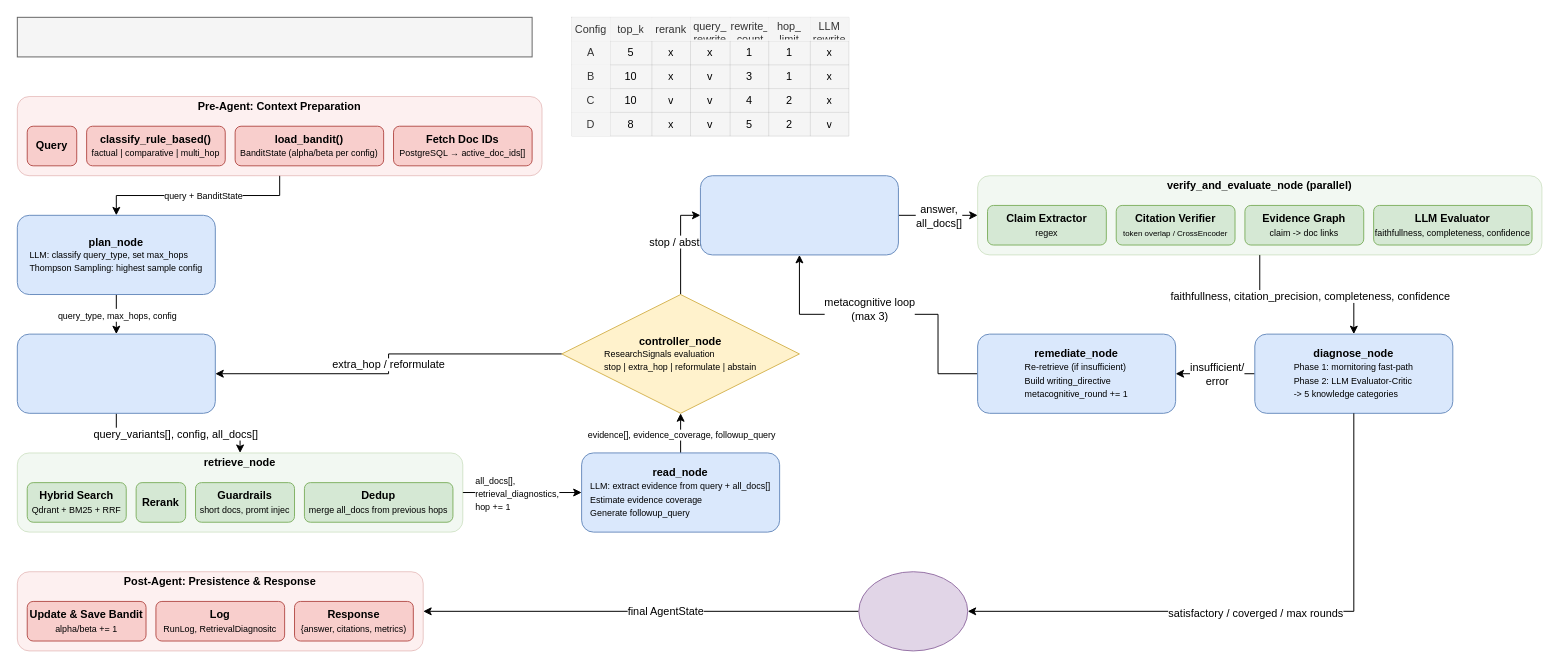
Some shapes in this 1559 by 668 pixel diagram are drawn without their labels. Each missing label, with the box of its shape:
END: (858, 571, 968, 651)
Pipeline 2 — Query Processing (LangGraph Agent): (16, 16, 532, 57)
query_rewrite_node Template rewrite OR LLM rewrite (Config D ): (16, 333, 215, 413)
write_node LLM: answer + N citations Inject writing_directive: (699, 175, 898, 255)
